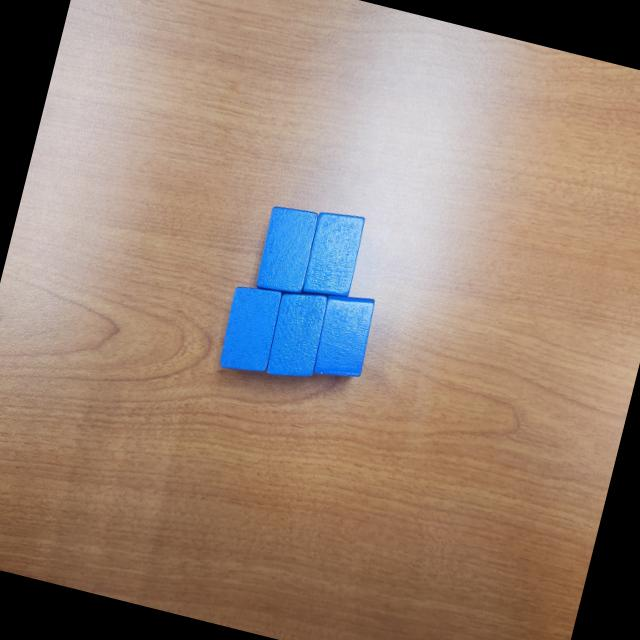blue: (262, 283, 334, 385), (214, 281, 286, 380), (298, 206, 369, 304), (308, 288, 379, 386), (252, 202, 322, 300)
